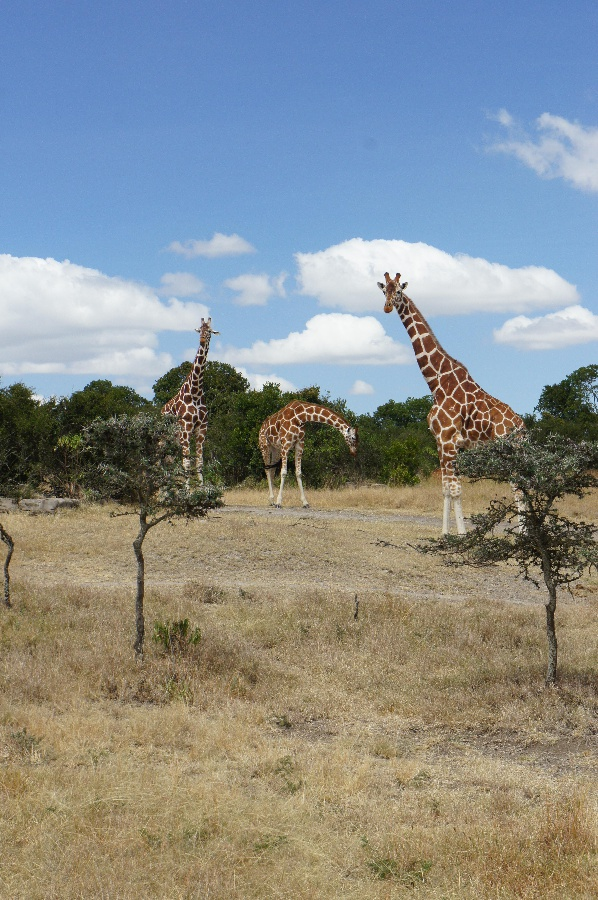giraffe: (372, 262, 540, 554), (137, 310, 227, 513), (251, 392, 363, 522)
